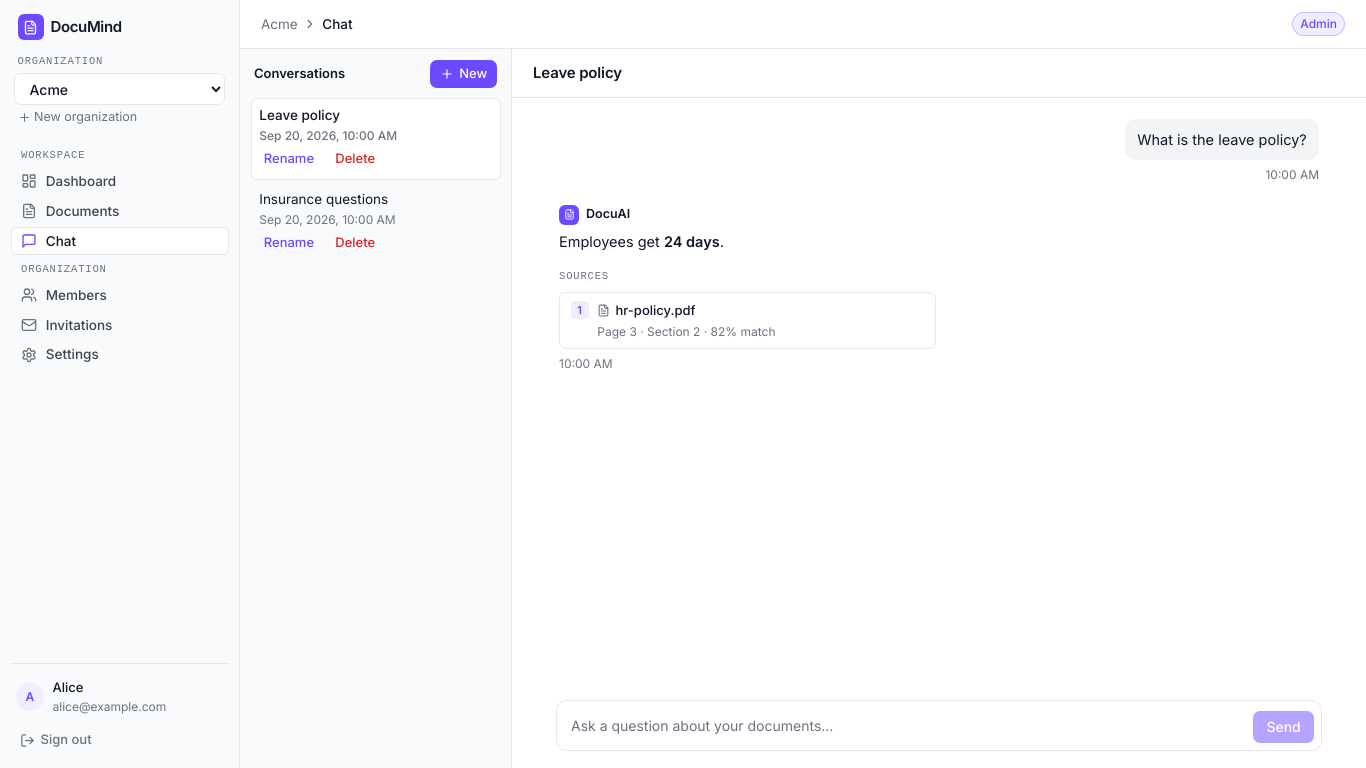
Scenario: Conversation sidebar › renames a conversation
This screenshot has width=1366, height=768.
Click the button with aria-label "Rename Leave policy" at (289, 159), box [254,145,324,173]
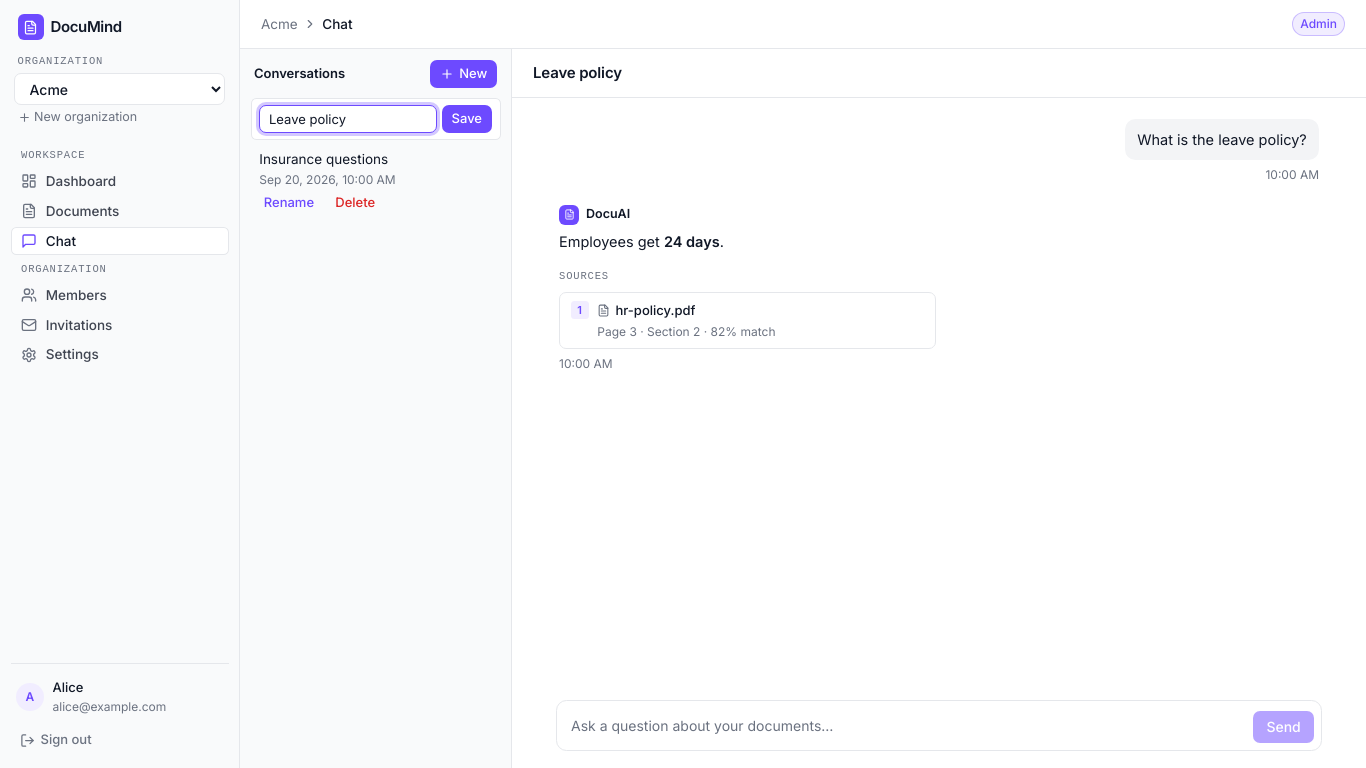
Replace the text in the field named "Conversation title" with "Annual leave" at (348, 119), box [259,105,437,133]
Then press Enter
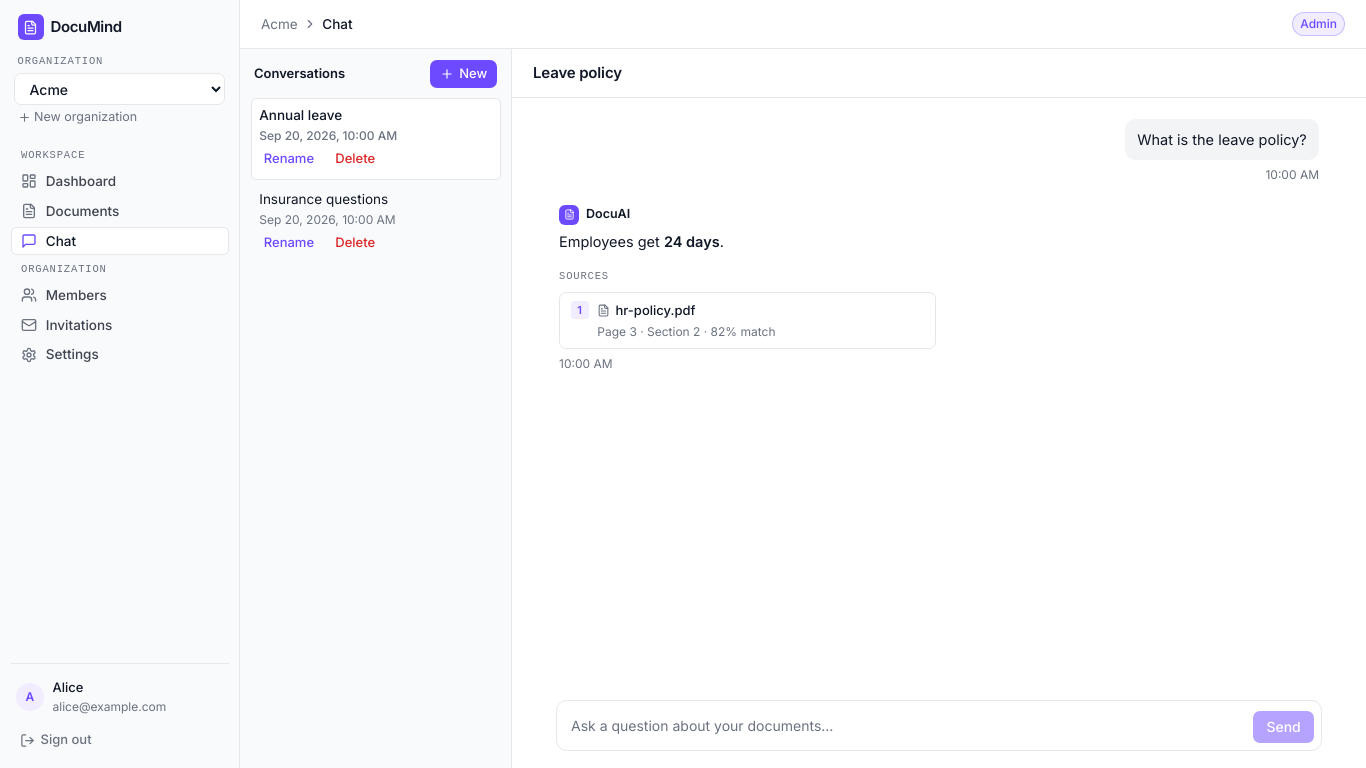
Expected: the link "Annual leave Sep 20, 2026, 10:00 AM" is shown, [259,107,397,143]
